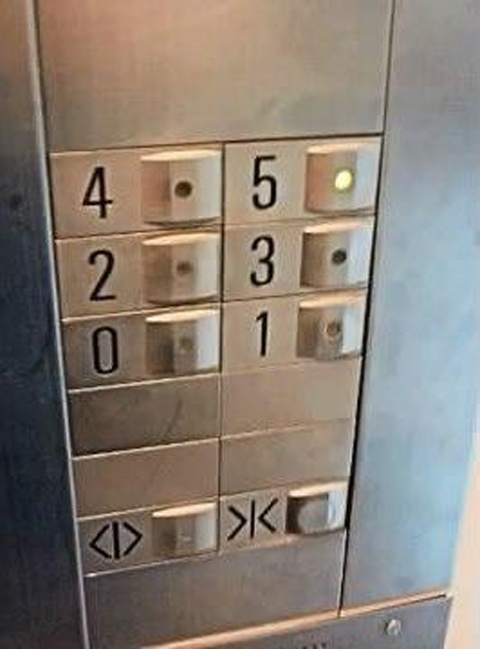0: (57, 297, 227, 395)
1: (215, 285, 376, 379)
2: (50, 219, 229, 323)
3: (217, 208, 382, 307)
4: (43, 138, 229, 242)
5: (220, 128, 389, 230)
close: (215, 474, 356, 556)
open: (72, 495, 224, 581)
